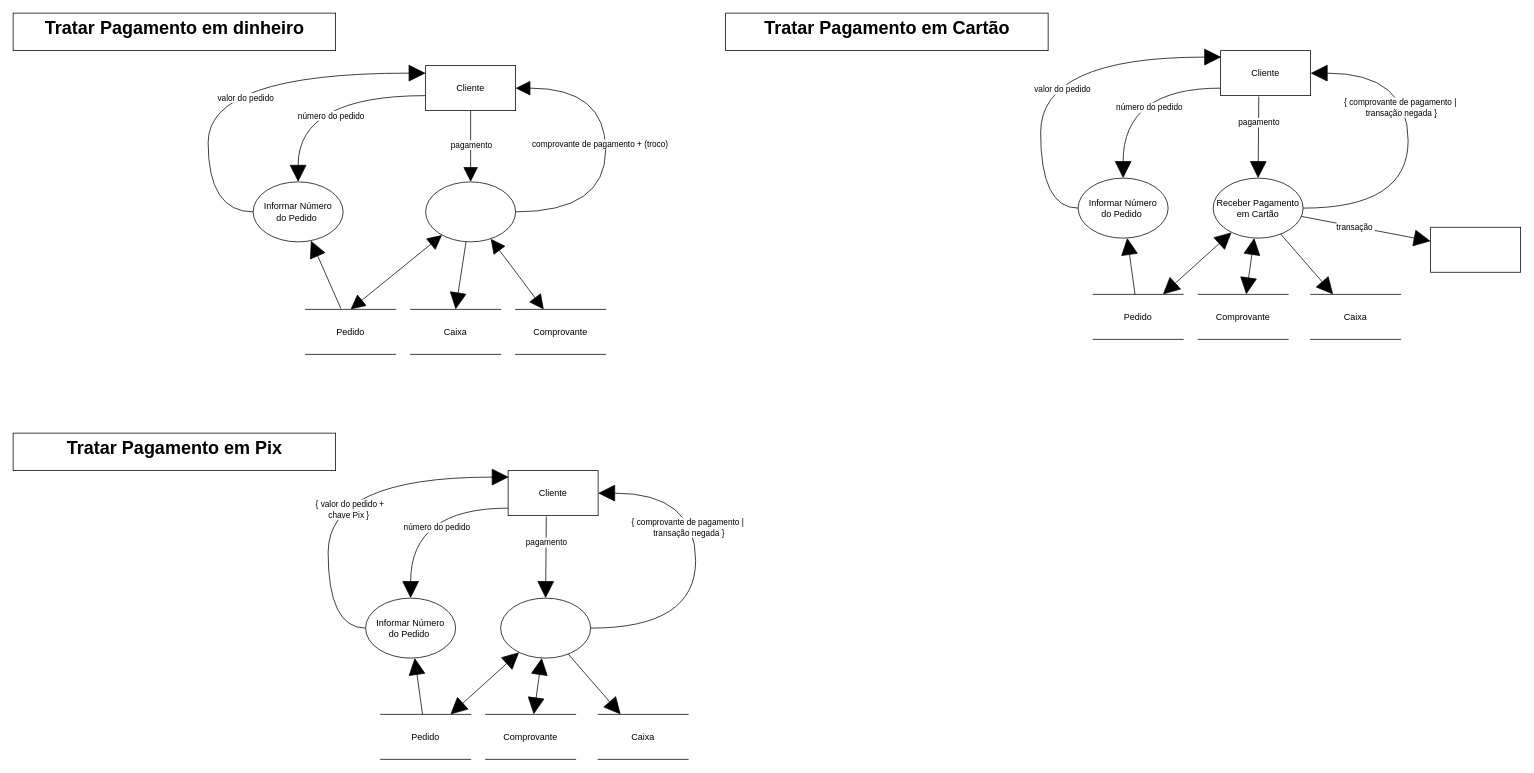
This 1534x773 diagram has some shape labels left out. The box of each missing label's shape, as (x1, y1, x2, y2) in pixels:
Banco: (1430, 226, 1521, 272)
Receber Pagamento em Dinheiro: (425, 181, 516, 242)
Receber Pagamento em Pix: (500, 597, 591, 658)
